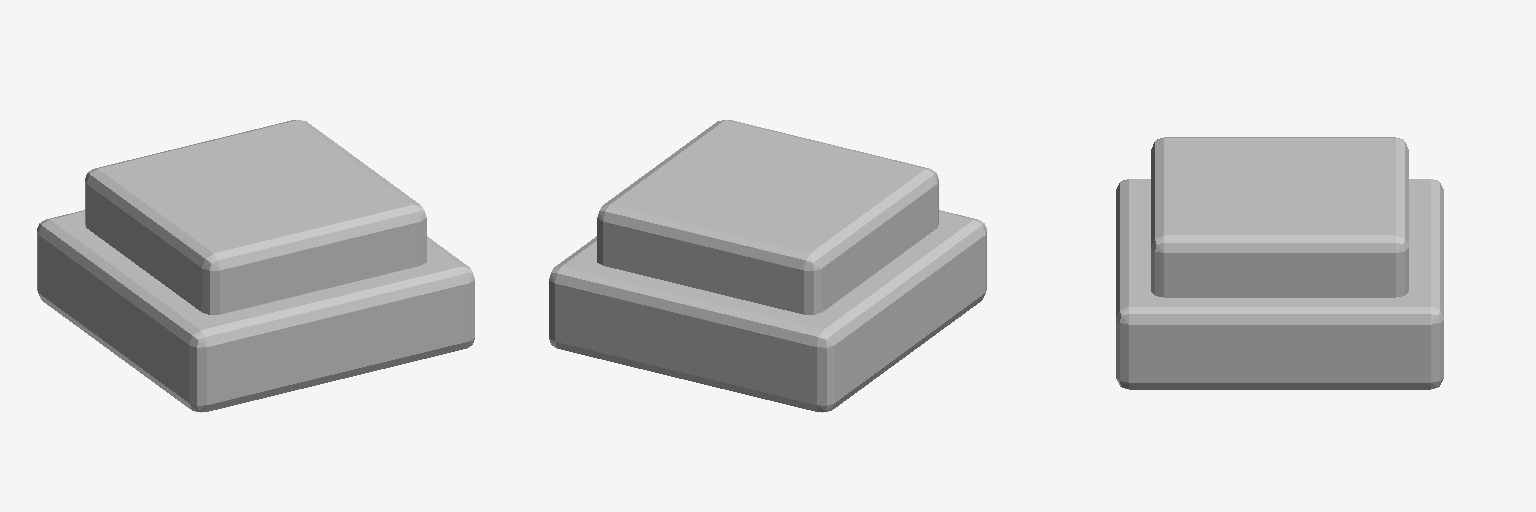
Rendered from Button.obj.
The picture shows the model from 3 angles: view 1: azimuth 30°, elevation 25°; view 2: azimuth 150°, elevation 25°; view 3: azimuth 270°, elevation 25°; orthographic projection.
Parts seen in each view (by area): view 1: Button_Cube.509; view 2: Button_Cube.509; view 3: Button_Cube.509.
Part boxes in pixels (left/top/right/bottom): Button_Cube.509: left=37, top=120, right=474, bottom=412; Button_Cube.509: left=549, top=120, right=986, bottom=412; Button_Cube.509: left=1116, top=137, right=1443, bottom=389.
Size of the model in its own units: 1.32 by 0.6158 by 1.32.